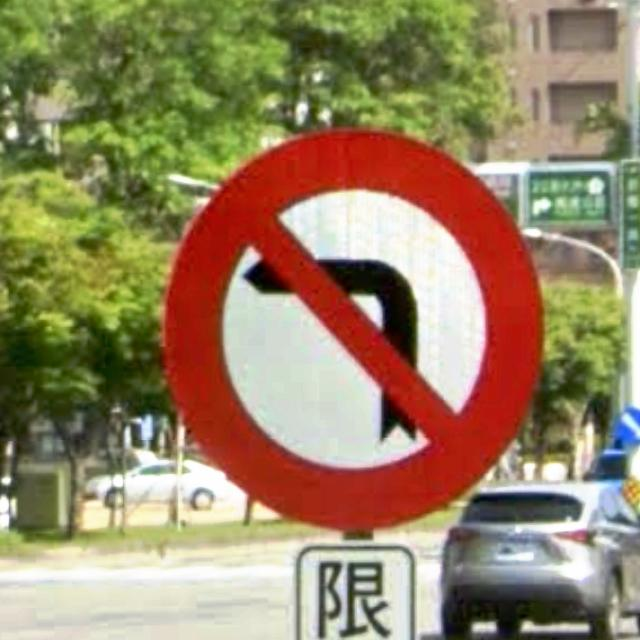noturnleft: (160, 129, 544, 535)
